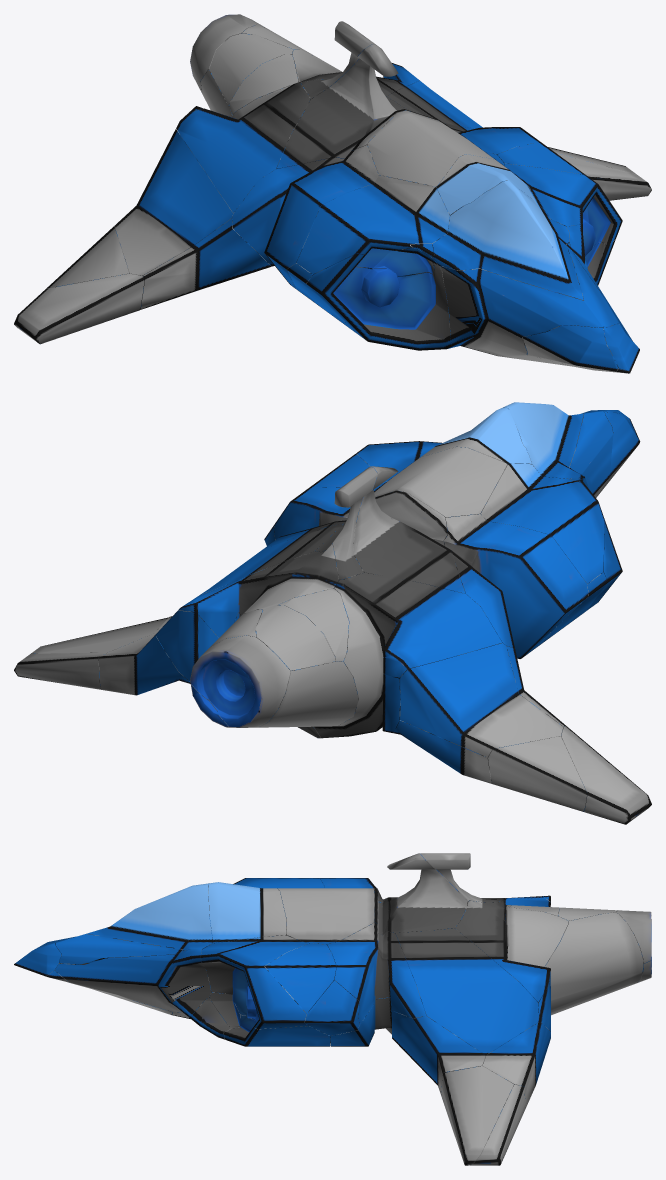
The model's file is Tes_Boom2.fbx.
3 views of the same model, one above another, from view 1: azimuth 30°, elevation 25°; view 2: azimuth 150°, elevation 25°; view 3: azimuth 270°, elevation 25° (orthographic). The views are drawn at different scales.
Visible parts, largest first — view 1: Plane.005_cell.027, Plane.005_cell.014, Plane.005_cell.045, Plane.005_cell.016, Plane.005_cell, Plane.005_cell.050, Plane.005_cell.007, Plane.005_cell.024, Plane.005_cell.042, Plane.005_cell.043, Plane.005_cell.009, Plane.005_cell.026 (+5 smaller); view 2: Plane.005_cell.027, Plane.005_cell.024, Plane.005_cell.050, Plane.005_cell.007, Plane.005_cell.030, Plane.005_cell, Plane.005_cell.045, Plane.005_cell.043, Plane.005_cell.062, Plane.005_cell.003, Plane.005_cell.042, Plane.005_cell.014 (+4 smaller); view 3: Plane.005_cell.030, Plane.005_cell.047, Plane.005_cell.009, Plane.005_cell.024, Plane.005_cell.045, Plane.005_cell.003, Plane.005_cell.011, Plane.005_cell, Plane.005_cell.043, Plane.005_cell.014, Plane.005_cell.027, Plane.005_cell.007.
Boxes of the visible parts, x1,y1,x2,y2 form: Plane.005_cell.027: (232, 145, 450, 332); Plane.005_cell.014: (439, 242, 639, 372); Plane.005_cell.045: (432, 154, 583, 299); Plane.005_cell.016: (307, 248, 452, 350); Plane.005_cell: (276, 21, 437, 168); Plane.005_cell.050: (114, 129, 233, 275); Plane.005_cell.007: (176, 82, 310, 212); Plane.005_cell.024: (190, 14, 321, 117); Plane.005_cell.042: (14, 273, 144, 344); Plane.005_cell.043: (367, 110, 504, 187); Plane.005_cell.009: (504, 163, 622, 285); Plane.005_cell.026: (140, 218, 271, 309); Plane.005_cell.027: (443, 463, 607, 658); Plane.005_cell.024: (190, 588, 358, 727); Plane.005_cell.050: (382, 643, 563, 783); Plane.005_cell.007: (314, 572, 502, 738); Plane.005_cell.030: (98, 523, 343, 738); Plane.005_cell: (315, 466, 465, 593); Plane.005_cell.045: (420, 402, 583, 478); Plane.005_cell.043: (373, 447, 507, 517); Plane.005_cell.062: (488, 736, 587, 811); Plane.005_cell.003: (14, 617, 168, 689); Plane.005_cell.042: (561, 726, 651, 824); Plane.005_cell.014: (569, 410, 640, 497); Plane.005_cell.030: (395, 900, 568, 1108); Plane.005_cell.047: (265, 922, 485, 1094); Plane.005_cell.009: (172, 935, 330, 1046); Plane.005_cell.024: (509, 905, 651, 1015); Plane.005_cell.045: (87, 882, 285, 950); Plane.005_cell.003: (441, 1066, 525, 1165); Plane.005_cell.011: (55, 949, 211, 1016); Plane.005_cell: (373, 853, 500, 934); Plane.005_cell.043: (277, 888, 374, 944); Plane.005_cell.014: (14, 933, 183, 1014); Plane.005_cell.027: (233, 878, 386, 902); Plane.005_cell.007: (481, 896, 550, 906).
Bounding box in the file's own units: 406 × 155 × 461.
